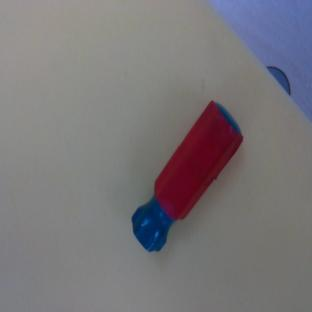part_2_good: (115, 98, 253, 256)
